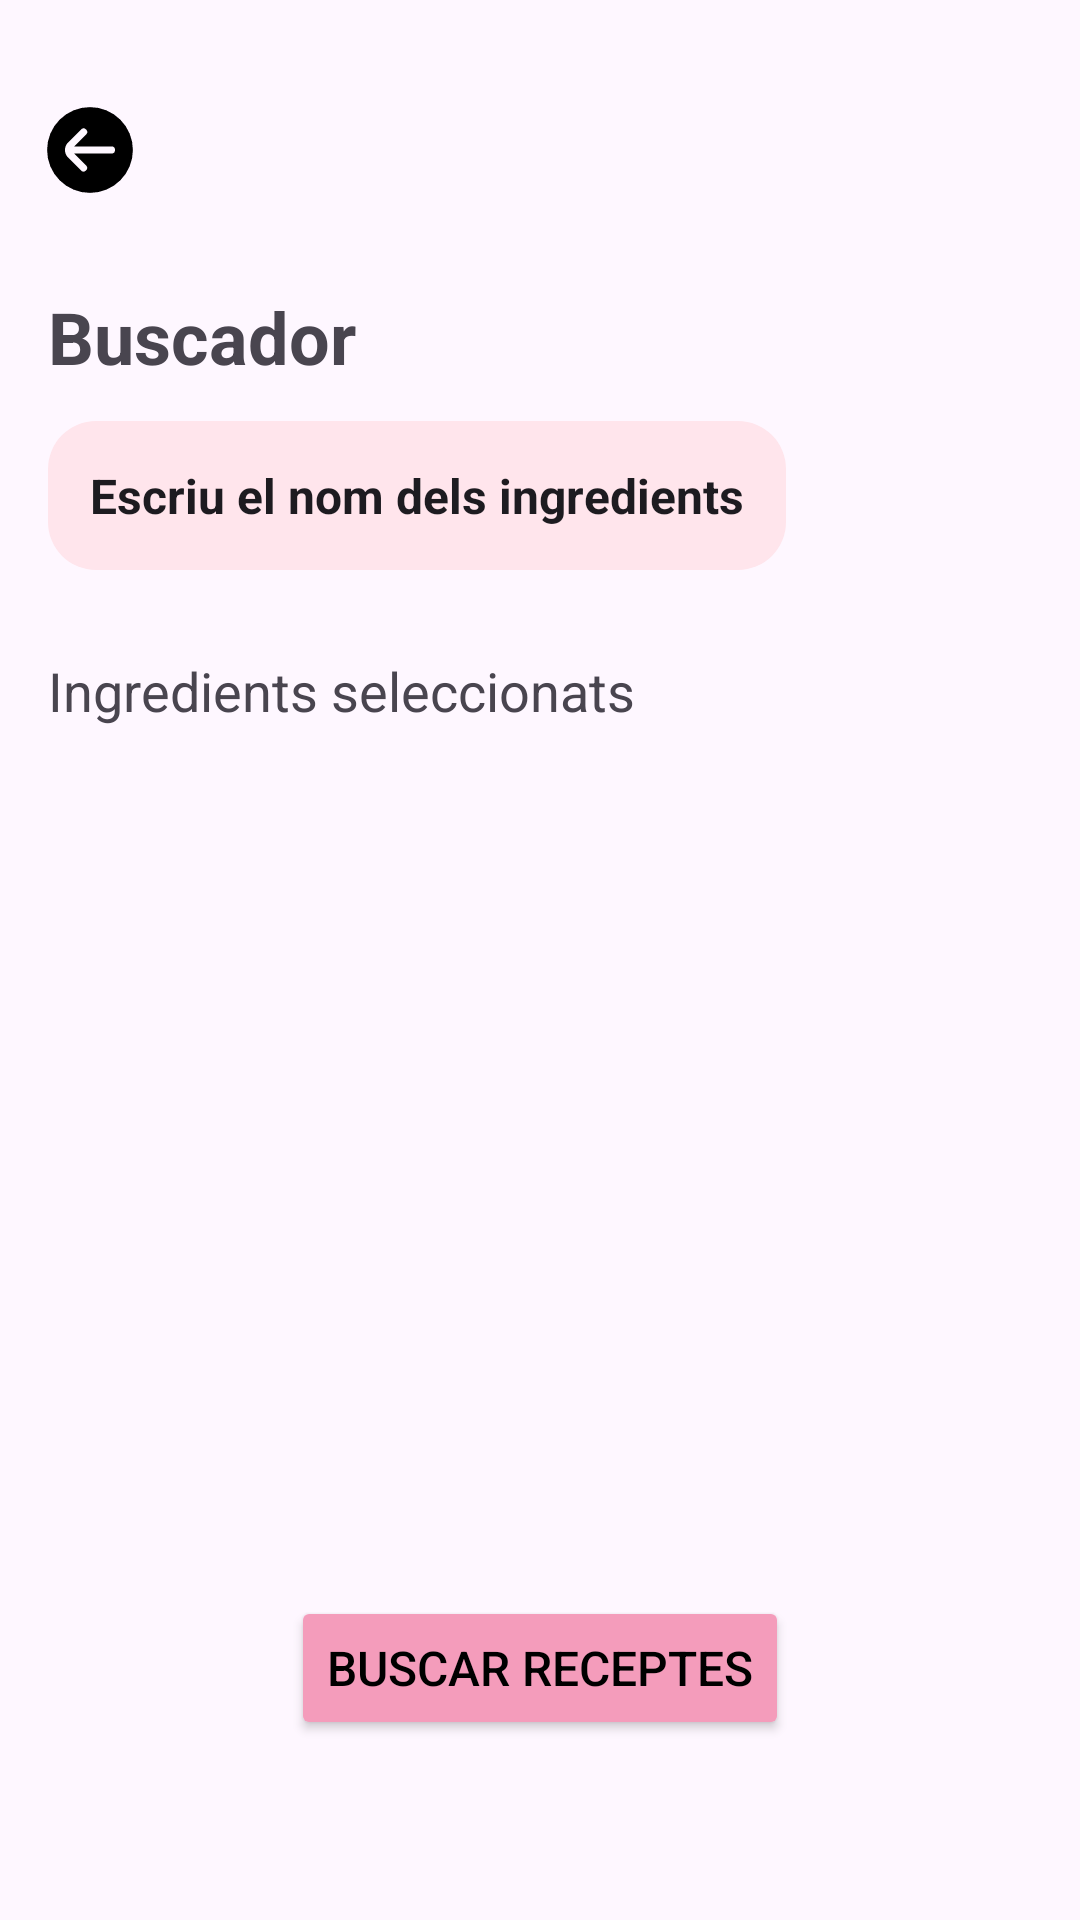

Named icons in this screenshot (1080w x 1920h) and their centers, (x=x, y=y):
draw volver: (x=90, y=150)
